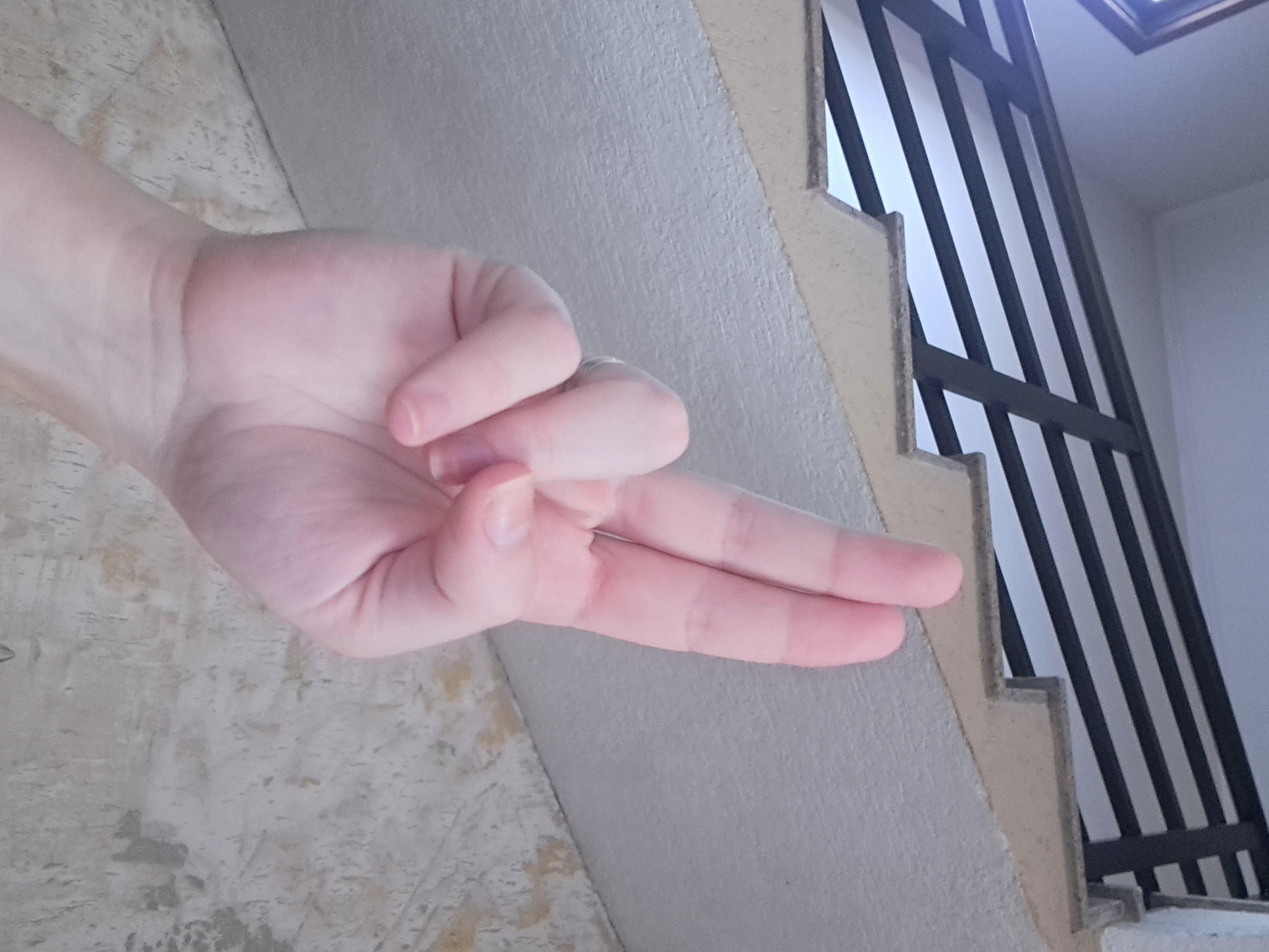U: (306, 216, 892, 843)
